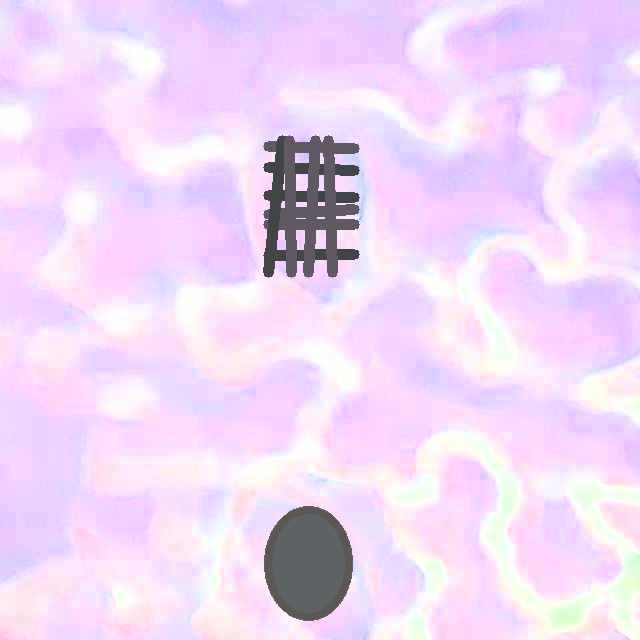open: (264, 136, 358, 276), (263, 506, 353, 620)
